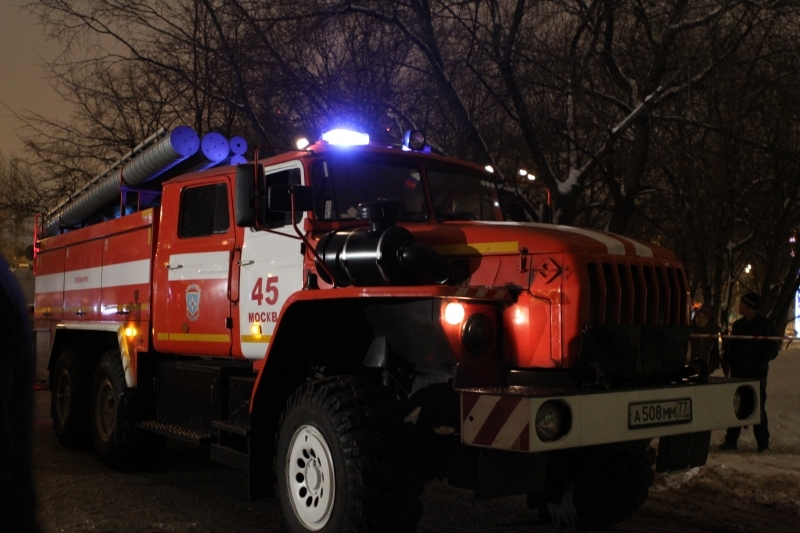special: (27, 127, 760, 533)
